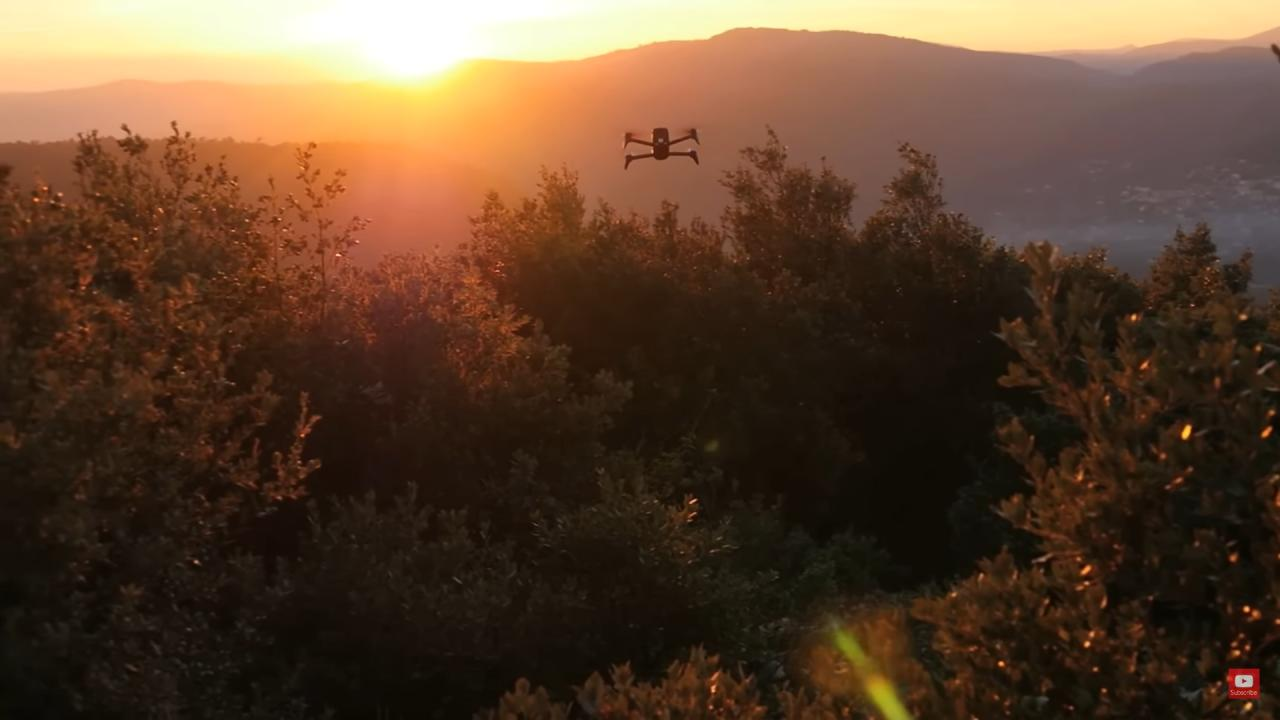Drone: (614, 120, 709, 177)
